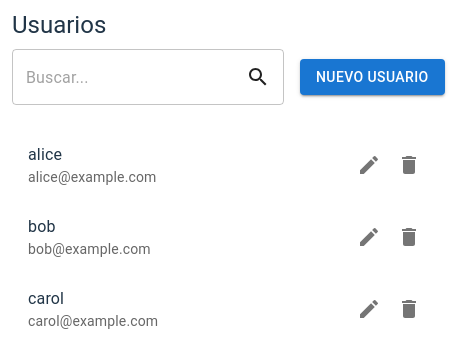
Users Component › filters users by name (case-insensitive)
Check: the text "alice" is shown, box x1=28 y1=145 x2=62 y2=164
In the field with placeholder "Buscar...": (129,77) x1=12 y1=49 x2=246 y2=105, type "BOB"
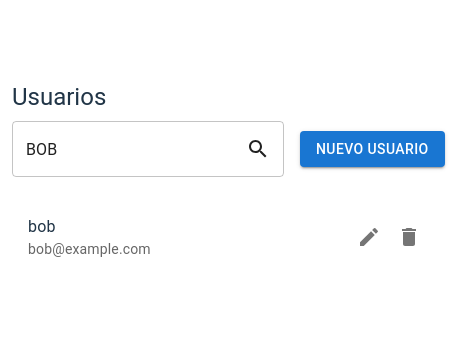
Check: the text "bob" is shown, box x1=28 y1=217 x2=56 y2=236
Check: the text "alice" is gone
Check: the text "carol" is gone
